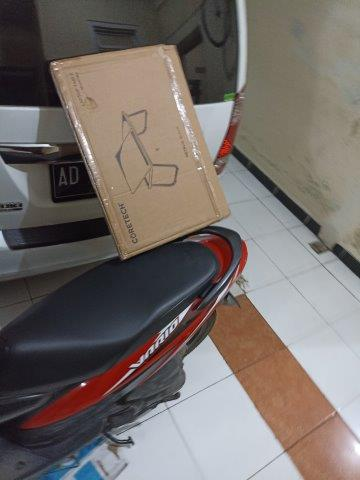kardus: (55, 48, 231, 256)
